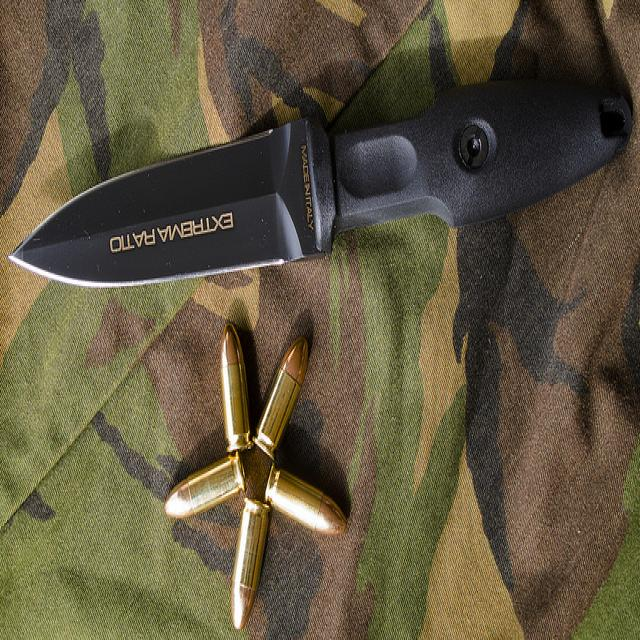knife: (13, 64, 637, 305)
